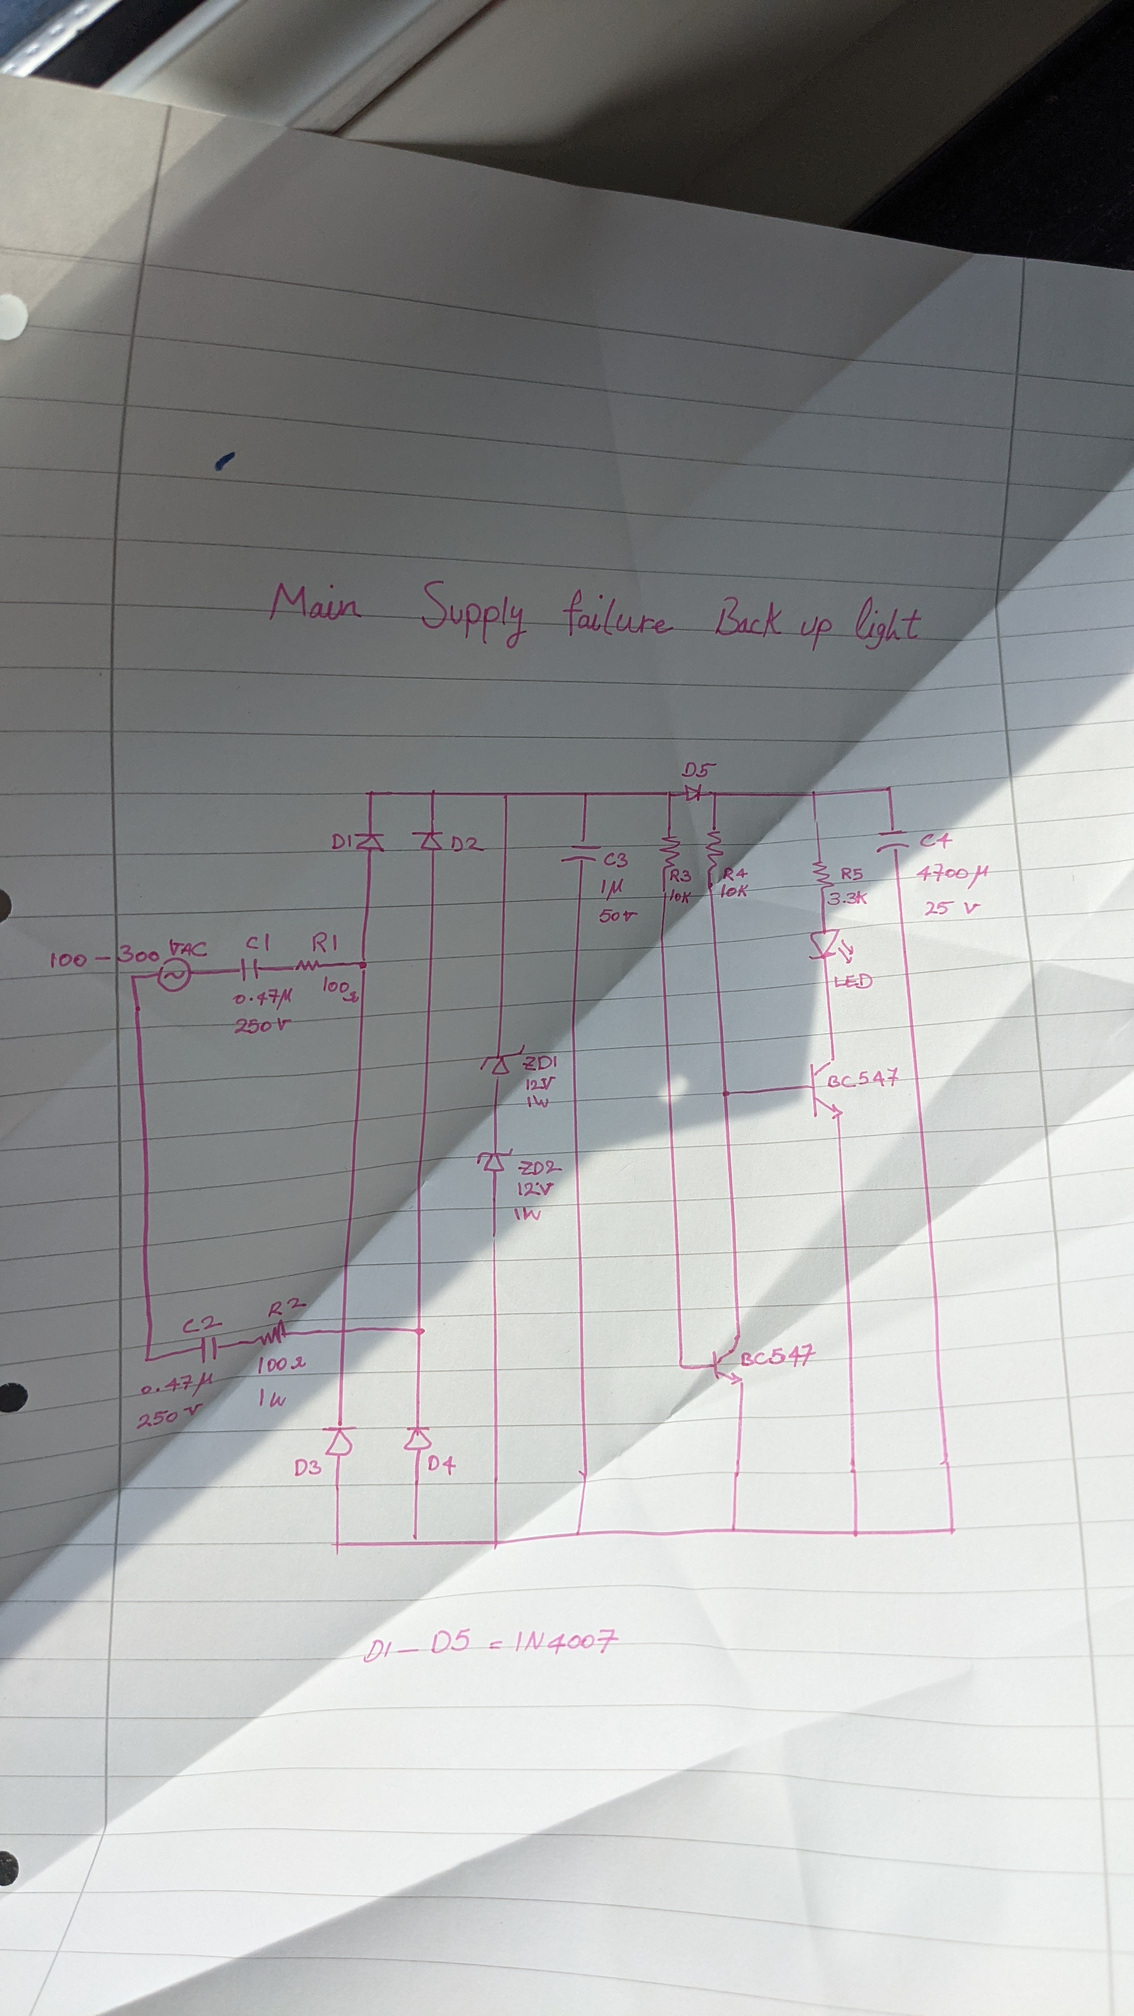capacitor.unpolarized: (558, 838, 602, 865), (875, 828, 912, 856), (237, 955, 264, 984), (197, 1333, 222, 1365)
crossover: (336, 1324, 353, 1338)
diode: (480, 1044, 526, 1076), (321, 1423, 361, 1457), (400, 1423, 435, 1452), (475, 1148, 514, 1173), (410, 829, 447, 853), (353, 831, 388, 854), (683, 782, 703, 803)
diode.light_emitting: (807, 928, 856, 966)
junction: (354, 955, 372, 973), (489, 1537, 505, 1552), (408, 1533, 424, 1549), (330, 1540, 343, 1556), (676, 1358, 690, 1374), (809, 788, 822, 800), (850, 1527, 863, 1540), (946, 1524, 958, 1536), (728, 1524, 741, 1536), (428, 786, 440, 798), (720, 1088, 732, 1099), (413, 1326, 426, 1336), (883, 784, 897, 793), (575, 1527, 584, 1540), (364, 788, 377, 798), (500, 791, 512, 800), (663, 789, 676, 799), (143, 1354, 152, 1365), (127, 972, 138, 982), (580, 789, 591, 799), (710, 789, 721, 799)
resistor: (249, 1318, 289, 1349), (703, 827, 726, 872), (656, 834, 683, 871), (810, 858, 836, 892), (289, 957, 324, 973)
text: (267, 577, 921, 651), (361, 1626, 620, 1664), (47, 937, 210, 971), (136, 1401, 205, 1432), (140, 1371, 215, 1398), (915, 863, 989, 890), (739, 1343, 816, 1368), (230, 984, 294, 1012), (827, 1066, 899, 1088), (233, 1016, 294, 1037), (258, 1353, 307, 1376), (321, 975, 360, 1004), (924, 900, 982, 917), (267, 1296, 309, 1318), (834, 971, 875, 991), (516, 1158, 564, 1176), (181, 1314, 224, 1333), (449, 834, 487, 854), (680, 760, 719, 780), (258, 1386, 288, 1410), (426, 1452, 457, 1476), (598, 907, 641, 924), (827, 890, 870, 907), (521, 1054, 559, 1072), (918, 831, 954, 850), (600, 876, 626, 903), (515, 1180, 557, 1196), (310, 930, 339, 954), (244, 930, 271, 954), (294, 1457, 323, 1477), (523, 1074, 557, 1092), (512, 1205, 543, 1223), (602, 850, 629, 870), (719, 882, 749, 899), (330, 831, 353, 852), (667, 888, 692, 906), (721, 865, 749, 881), (525, 1094, 550, 1110), (839, 865, 864, 882), (669, 868, 692, 883)
transistor: (809, 1054, 847, 1122), (710, 1333, 748, 1387)
voltage.dc_ac: (156, 957, 192, 994)
